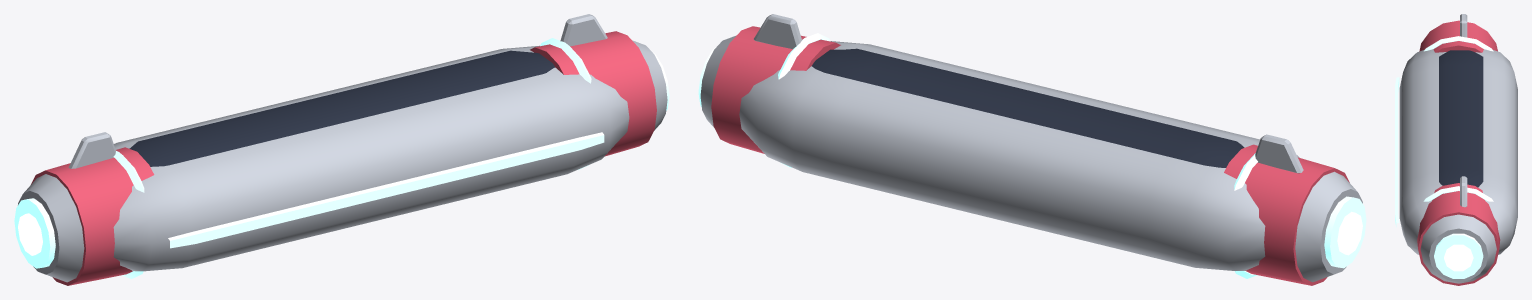
The model's file is paddle.glb.
The picture shows the model from 3 angles, left to right: view 1: azimuth 30°, elevation 25°; view 2: azimuth 150°, elevation 25°; view 3: azimuth 270°, elevation 25°; orthographic projection. The views are drawn at different scales.
Visible parts, largest first — view 1: mid, end_l, end_r; view 2: mid, end_l, end_r; view 3: mid, end_r, end_l.
Boxes of the visible parts, box(x1,y1,x2,y2) form: mid: box(155, 58, 543, 258); end_l: box(14, 132, 232, 285); end_r: box(465, 14, 669, 183); mid: box(830, 53, 1222, 258); end_l: box(1147, 130, 1366, 285); end_r: box(698, 14, 907, 181); mid: box(1395, 65, 1517, 204); end_r: box(1395, 169, 1517, 285); end_l: box(1395, 14, 1517, 100).
Bounding box in the file's own units: 2.02 × 0.434 × 0.498.
